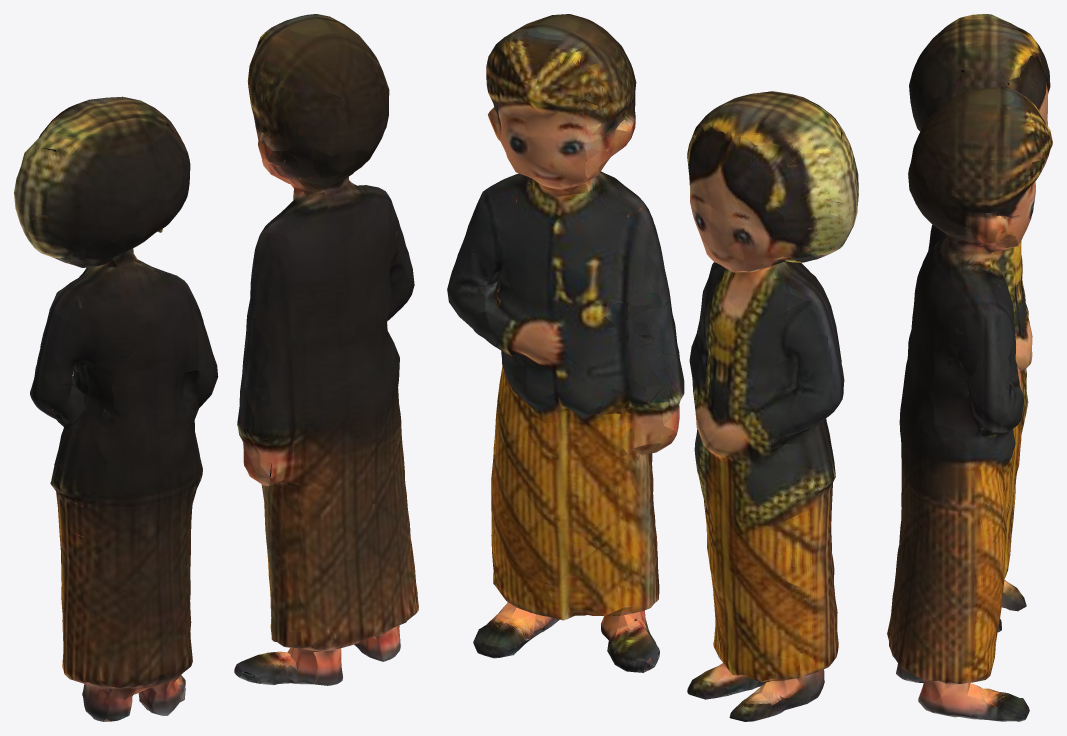
Rendered from adat._jawa.glb.
The picture shows the model from 3 angles, left to right: view 1: azimuth 30°, elevation 25°; view 2: azimuth 150°, elevation 25°; view 3: azimuth 270°, elevation 25°; orthographic projection. The views are drawn at different scales.
Parts seen in each view (by area): view 1: world; view 2: world; view 3: world.
Part boxes in pixels (x1,y1,x2,y2): world: (14,14,418,721); world: (447,14,858,721); world: (887,14,1052,721).
Size of the model in its own units: 0.6098 by 0.9299 by 0.232.
Materials: 1 (1 with a texture image).
